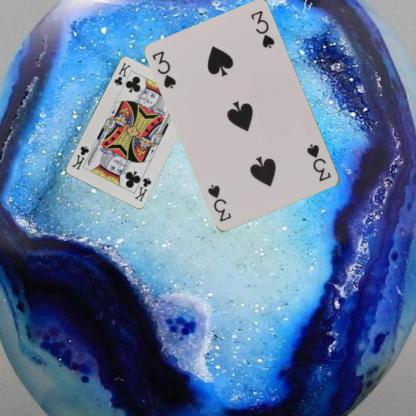3s: (304, 141, 333, 183), (150, 49, 178, 90)
Kc: (132, 175, 152, 203), (112, 60, 132, 86)
